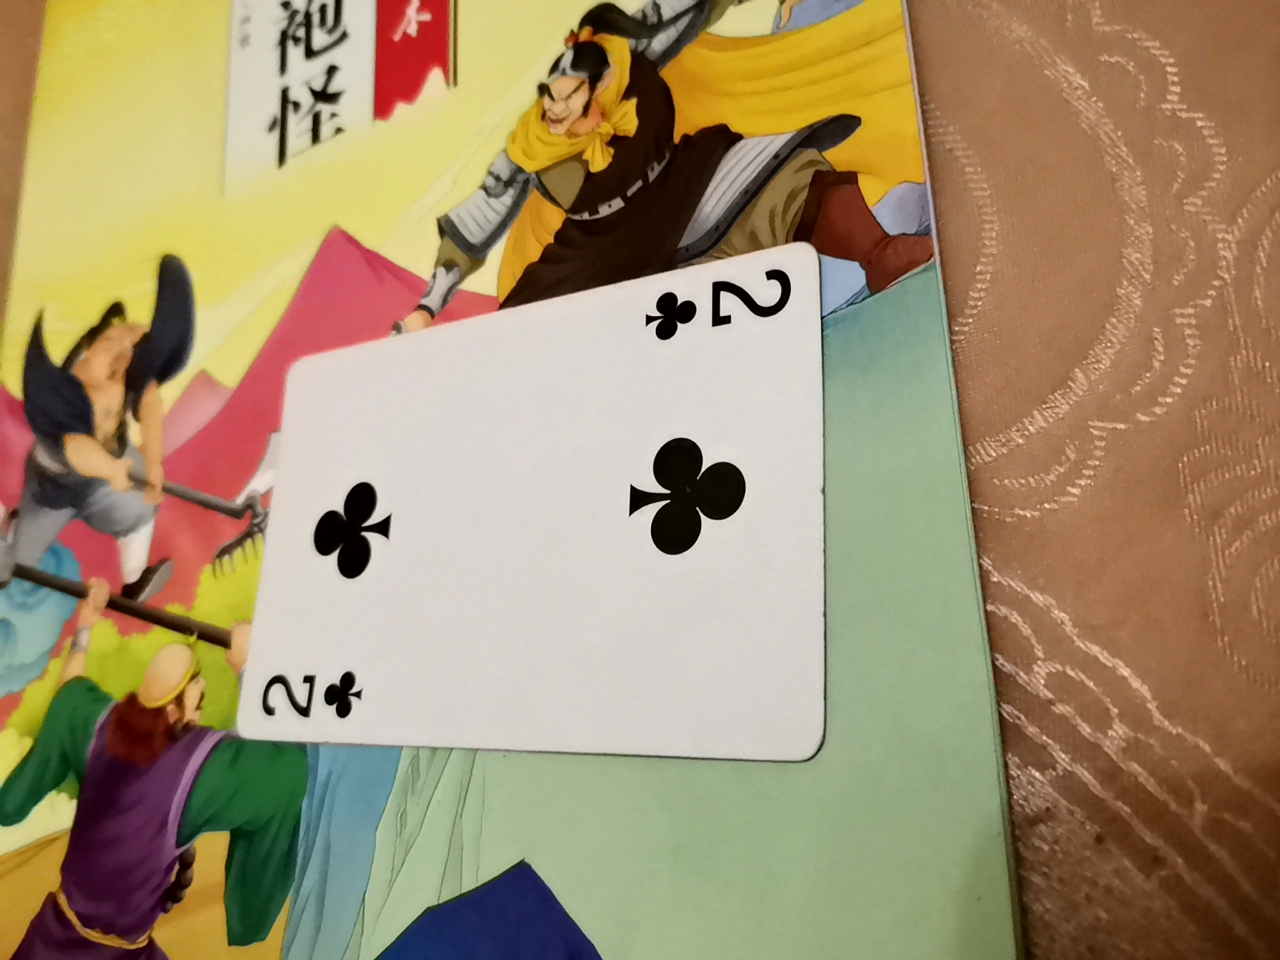mh 2: (244, 278, 842, 768)
